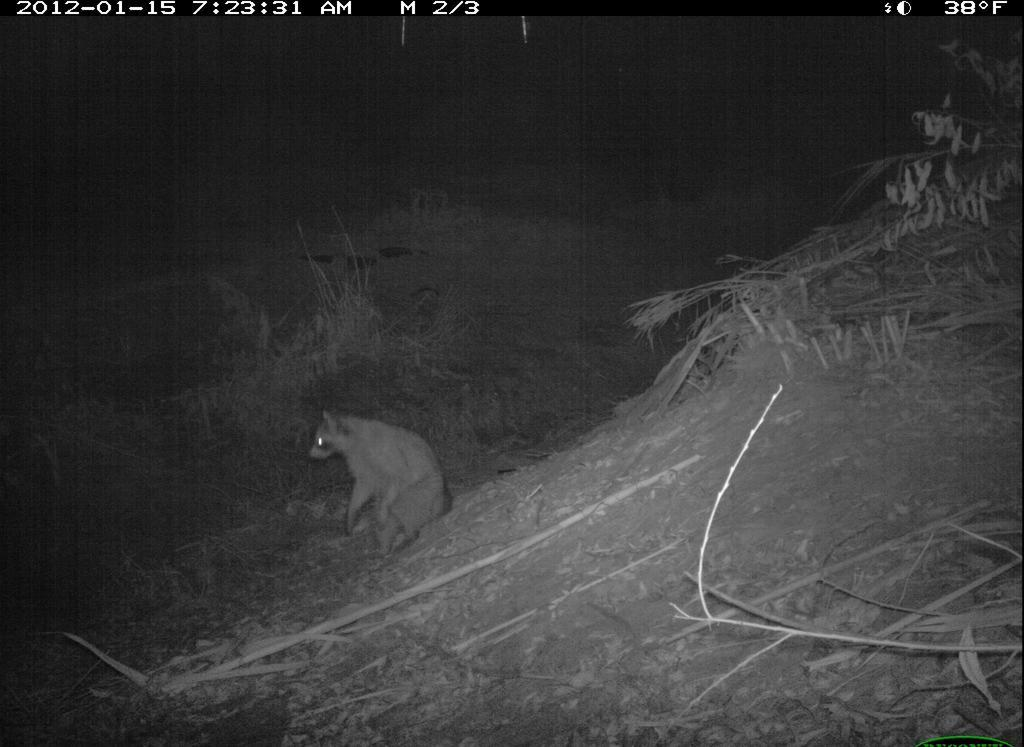raccoon: (296, 401, 465, 566)
